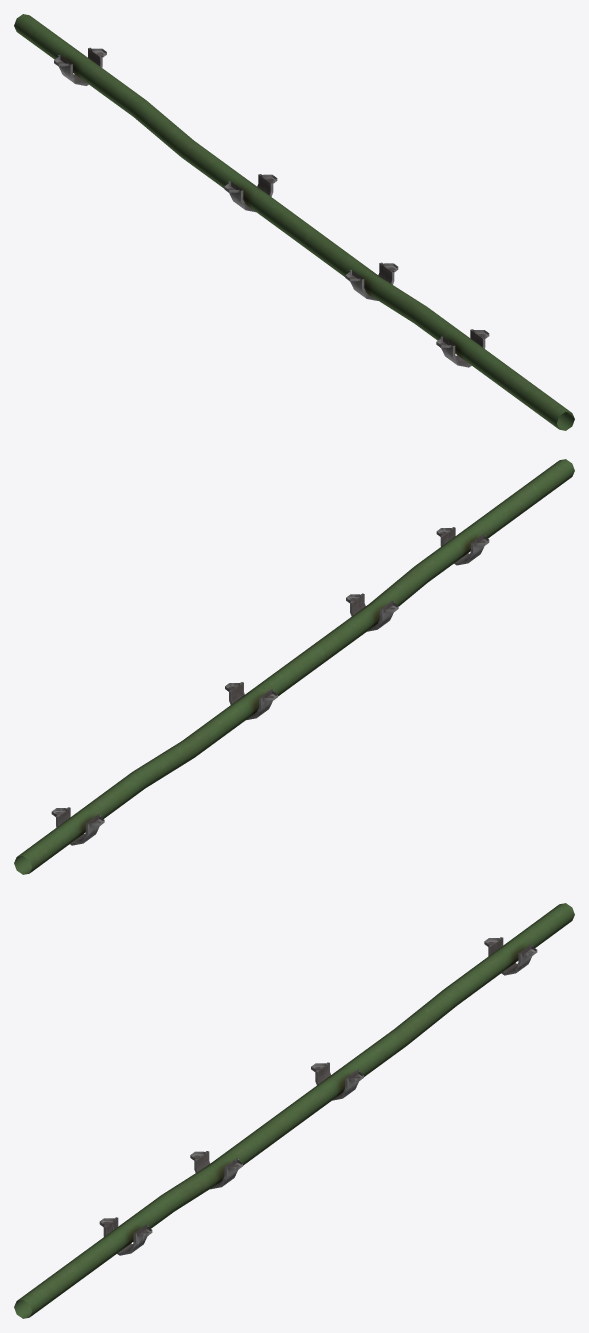
Rendered from Cables01_07.glb.
The picture shows the model from 3 angles, top to bottom: view 1: azimuth 30°, elevation 25°; view 2: azimuth 150°, elevation 25°; view 3: azimuth 330°, elevation 25°; orthographic projection.
Visible parts, largest first — view 1: Circle_029; view 2: Circle_029; view 3: Circle_029.
Part boxes in pixels (x1,y1,x2,y2): Circle_029: (14, 14, 574, 430); Circle_029: (14, 459, 574, 874); Circle_029: (14, 903, 574, 1318).
Bounding box in the file's own units: 0.069 × 0.0353 × 1.3.
1 material, 1 textured.
